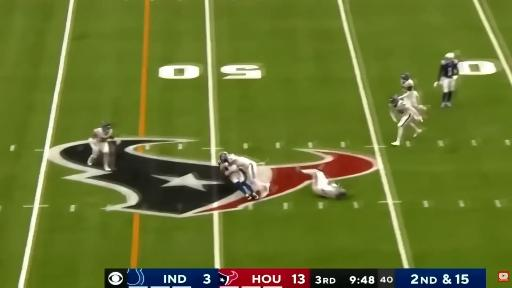Helmet: (335, 188, 347, 199), (219, 151, 228, 162), (390, 95, 398, 106), (445, 52, 455, 60), (401, 73, 410, 81), (102, 123, 111, 131)
Jersey: (229, 155, 256, 179), (393, 100, 420, 118), (220, 163, 243, 182), (438, 59, 458, 79), (399, 91, 419, 107), (318, 184, 339, 197), (94, 128, 113, 141), (401, 79, 413, 91)
Player: (219, 152, 269, 199), (390, 96, 422, 145), (219, 161, 257, 199), (298, 168, 346, 198), (87, 123, 114, 171), (434, 53, 458, 106), (399, 73, 426, 110), (399, 90, 426, 110), (401, 73, 414, 92)
